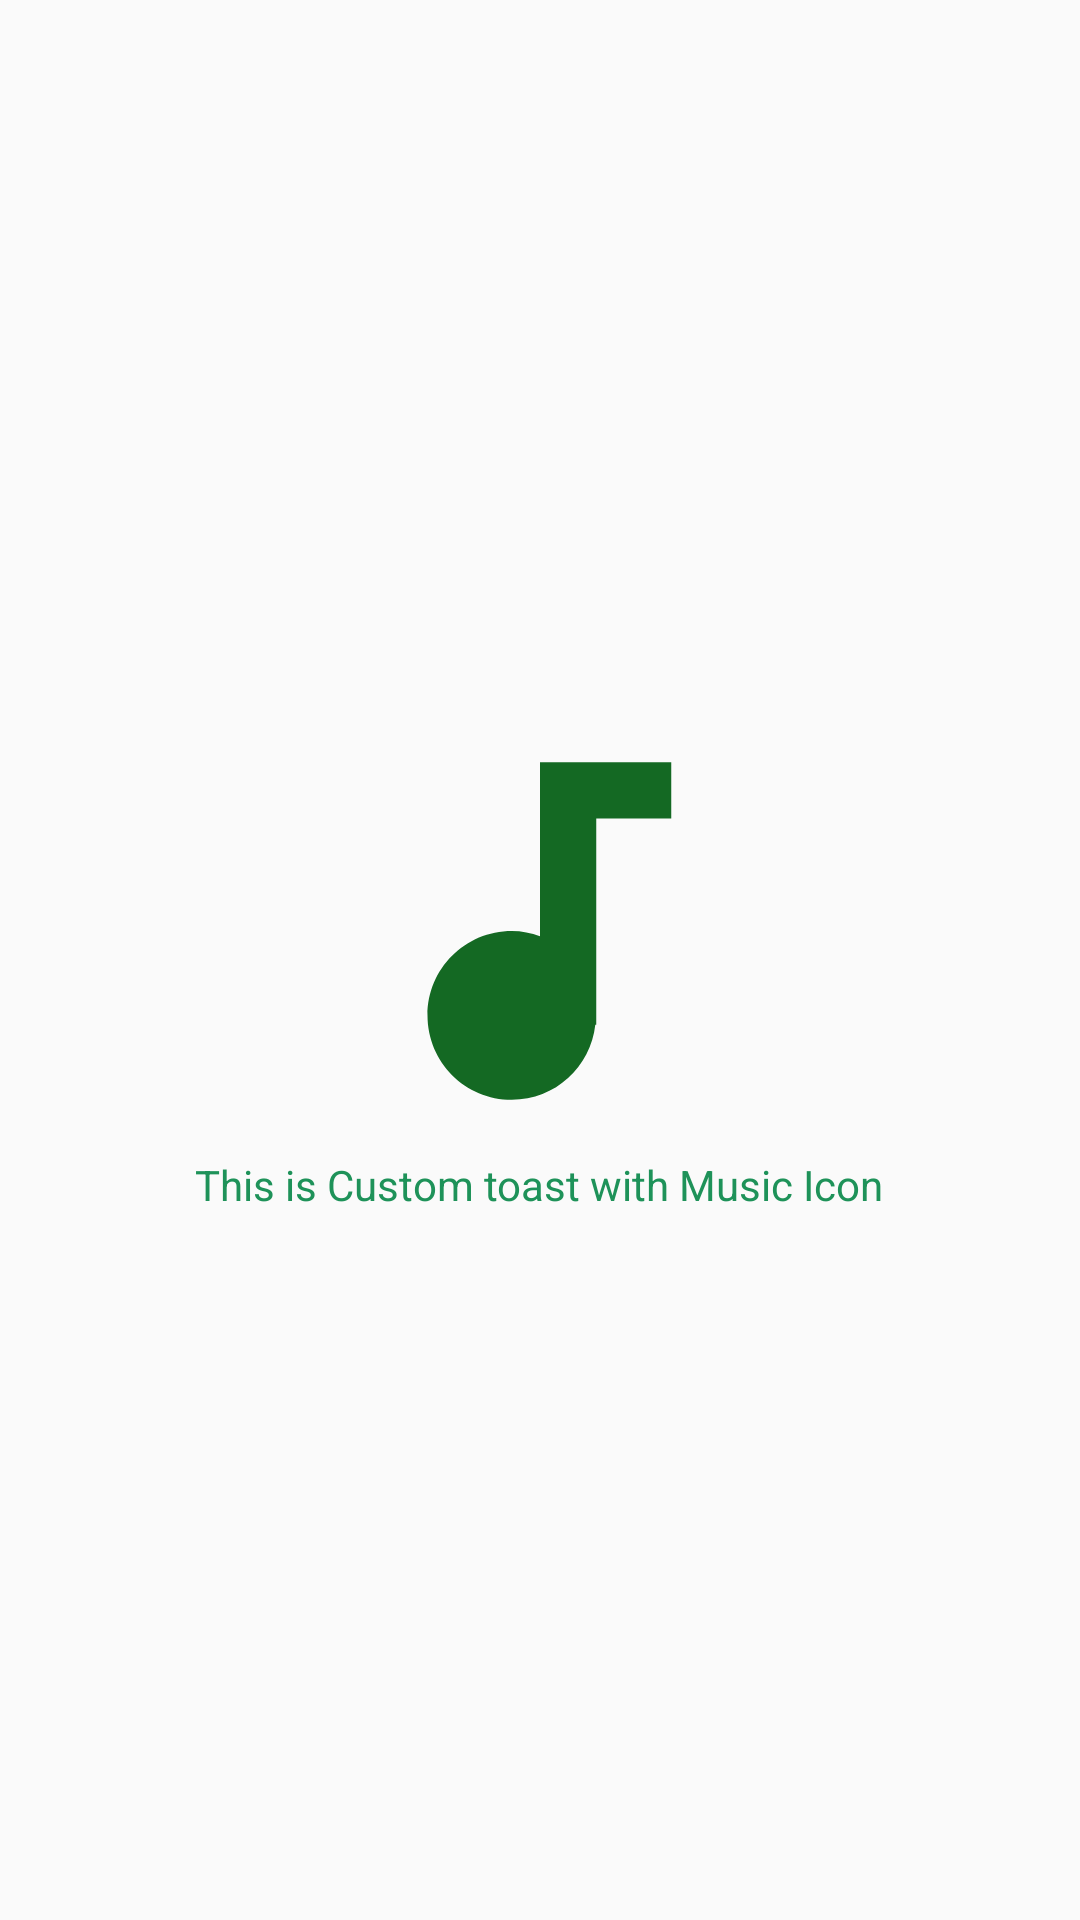

Where icons sit on this 1080px×1920px app screen, as [left=x1, top=y1, right=x2, bottom=y2]:
audiotrack: [left=427, top=762, right=672, bottom=1100]
